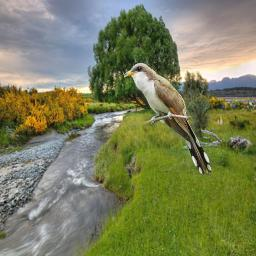Cuckoo: (124, 63, 212, 175)
